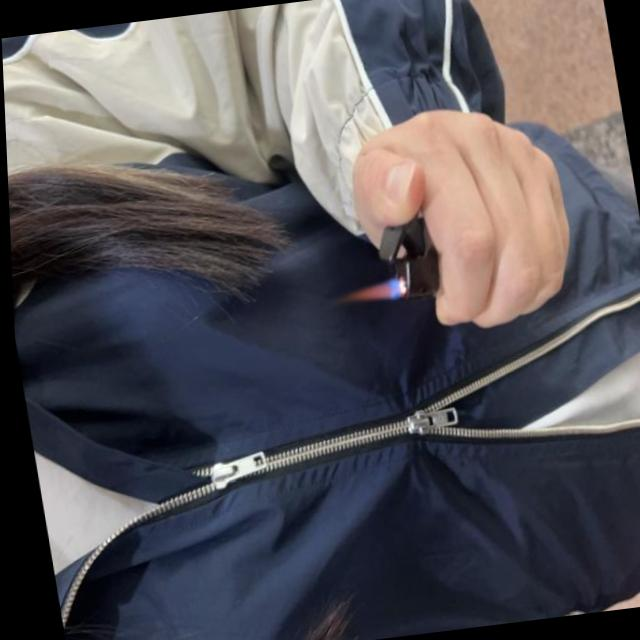Fire: (340, 277, 398, 304)
